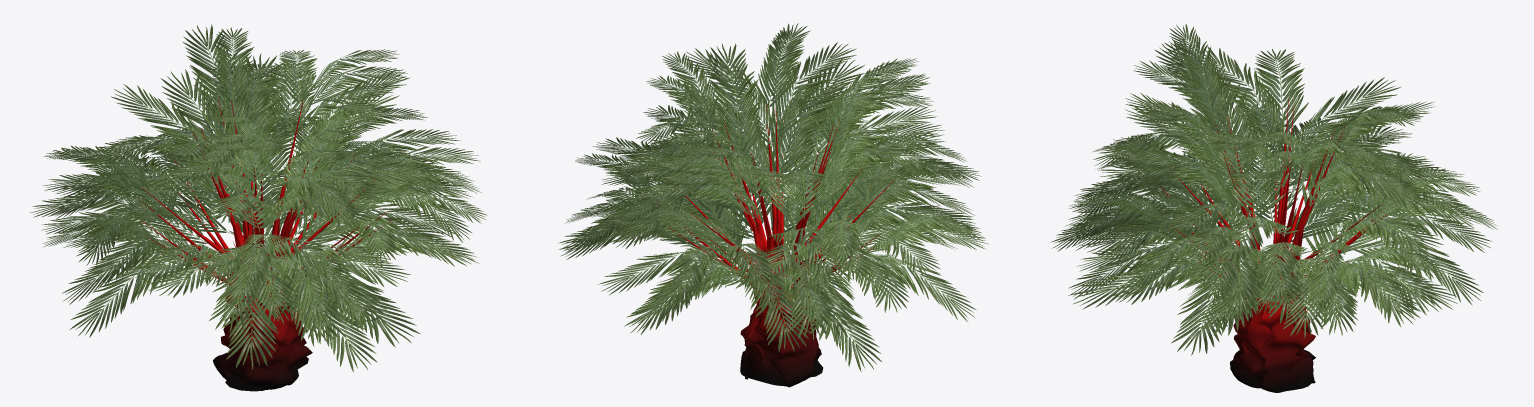
File: Palm_3_1.fbx
The picture shows the model from 3 angles, left to right: view 1: azimuth 30°, elevation 25°; view 2: azimuth 150°, elevation 25°; view 3: azimuth 270°, elevation 25°; orthographic projection. The views are drawn at different scales.
Visible parts, largest first — view 1: Palm_3_1; view 2: Palm_3_1; view 3: Palm_3_1.
Part boxes in pixels (left/top/right/bottom): Palm_3_1: left=30, top=24, right=487, bottom=391; Palm_3_1: left=558, top=23, right=988, bottom=387; Palm_3_1: left=1050, top=24, right=1497, bottom=392.
Size of the model in its own units: 4479 by 3116 by 4488.
